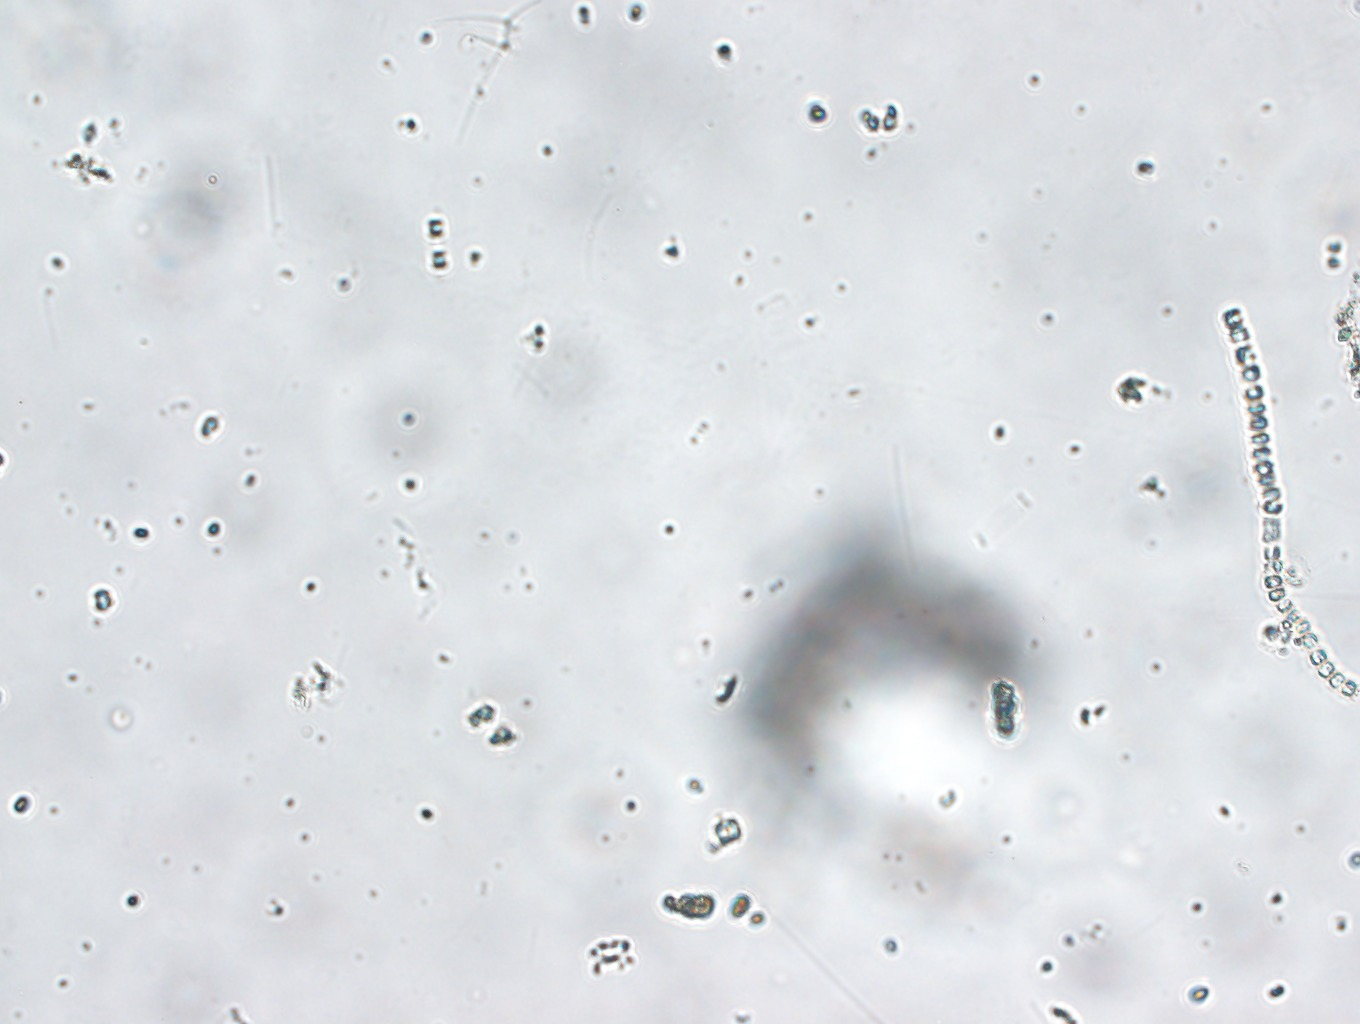skeletonema: (1193, 295, 1356, 707)
